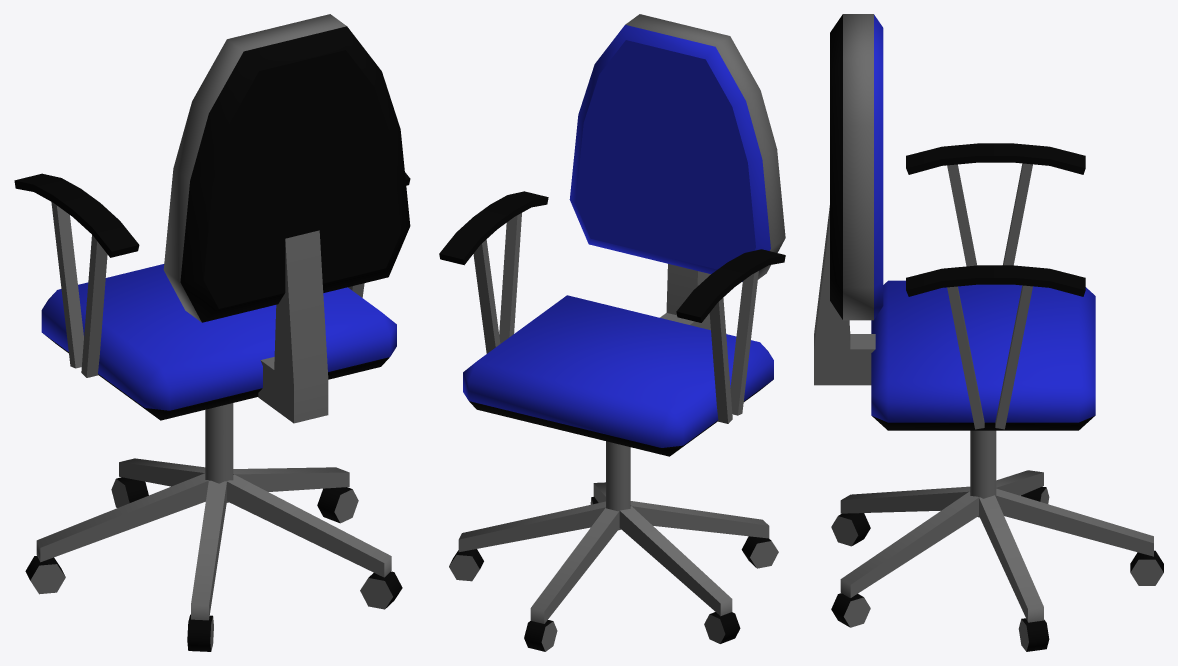
The model's file is silla escritorio.fbx.
3 views of the same model, side by side, from view 1: azimuth 30°, elevation 25°; view 2: azimuth 150°, elevation 25°; view 3: azimuth 270°, elevation 25° (orthographic). The views are drawn at different scales.
Parts seen in each view (by area): view 1: Cubo_6; view 2: Cubo_6; view 3: Cubo_6.
Boxes of the visible parts, x1,y1,x2,y2 form: Cubo_6: (14,14,410,651); Cubo_6: (439,14,785,651); Cubo_6: (814,14,1163,651).
Bounding box in the file's own units: 87.7 × 150 × 87.69.
